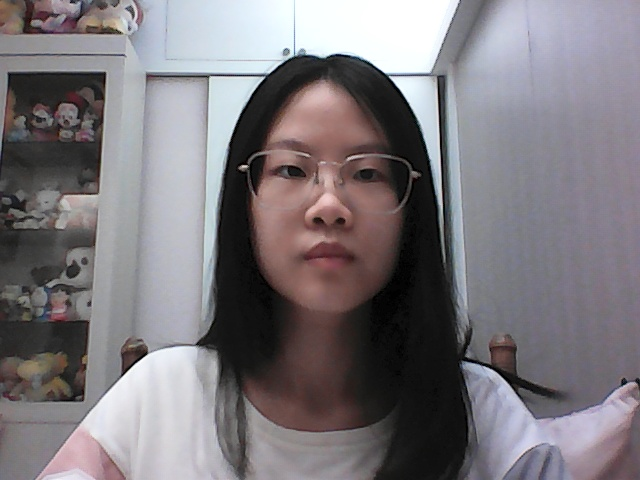NoMask: (268, 221, 395, 308)
